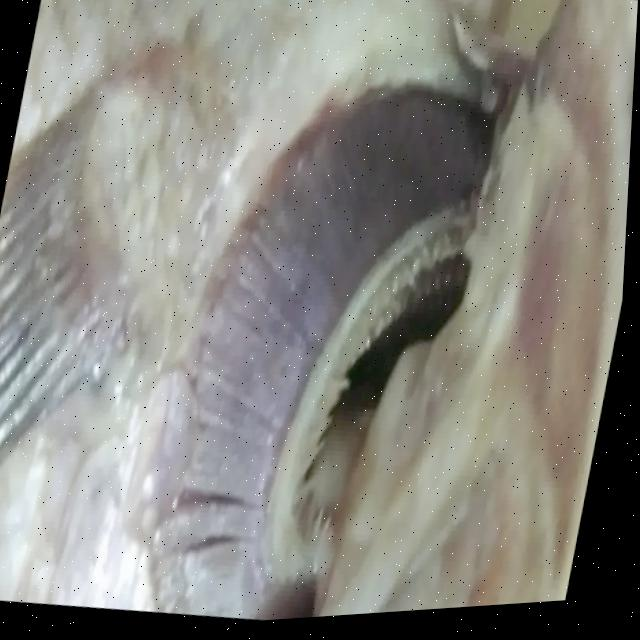Non-Fresh: (94, 16, 512, 634)
